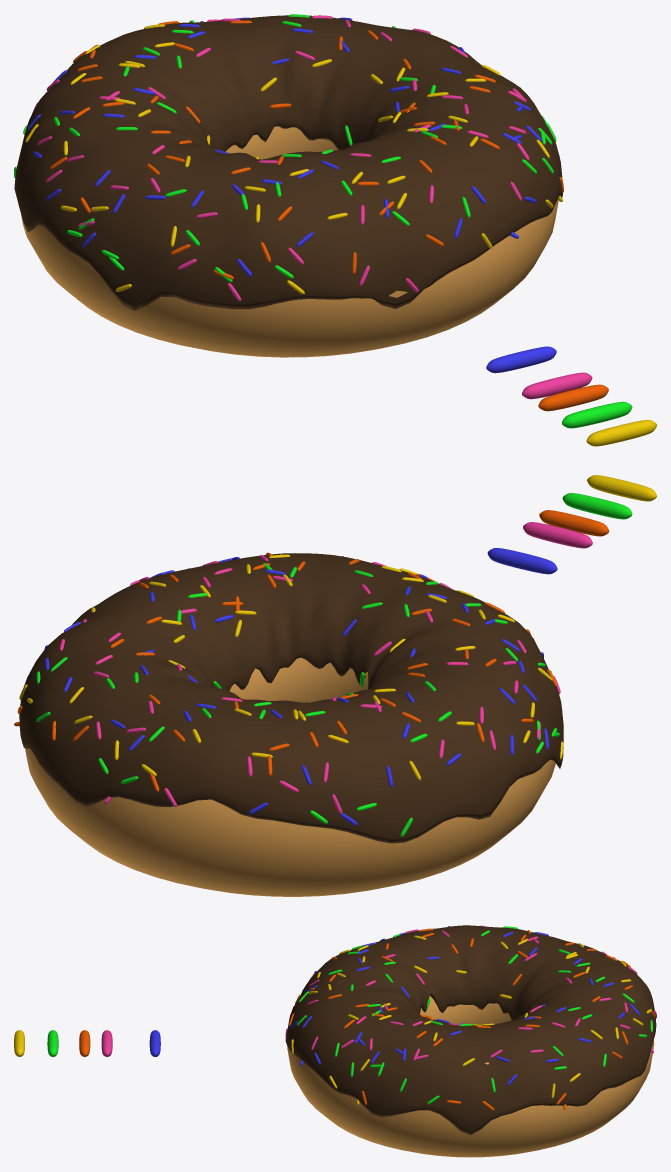
3 renders of one model, top to bottom at view 1: azimuth 30°, elevation 25°; view 2: azimuth 150°, elevation 25°; view 3: azimuth 270°, elevation 25°, orthographic. The views are drawn at different scales.
Parts seen in each view (by area): view 1: Torus.001, Torus, Sphere.002, Sphere.003, Sphere.001, Sphere.004, Sphere; view 2: Torus.001, Torus, Sphere, Sphere.003, Sphere.002, Sphere.001, Sphere.004; view 3: Torus.001, Torus.
Part boxes in pixels (bbox=[...]): Torus.001: bbox=[14, 15, 562, 310]; Torus: bbox=[21, 62, 558, 357]; Sphere.002: bbox=[562, 401, 632, 428]; Sphere.003: bbox=[586, 420, 656, 446]; Sphere.001: bbox=[486, 346, 556, 373]; Sphere.004: bbox=[538, 384, 608, 411]; Sphere: bbox=[522, 372, 592, 399]; Torus.001: bbox=[19, 553, 563, 843]; Torus: bbox=[25, 621, 555, 896]; Sphere: bbox=[523, 522, 592, 548]; Sphere.003: bbox=[587, 475, 656, 501]; Sphere.002: bbox=[562, 493, 632, 519]; Sphere.001: bbox=[487, 548, 557, 574]; Sphere.004: bbox=[539, 510, 609, 536]; Torus.001: bbox=[286, 925, 656, 1135]; Torus: bbox=[287, 996, 654, 1157].
Size of the model in its own units: 216 by 77.74 by 374.
